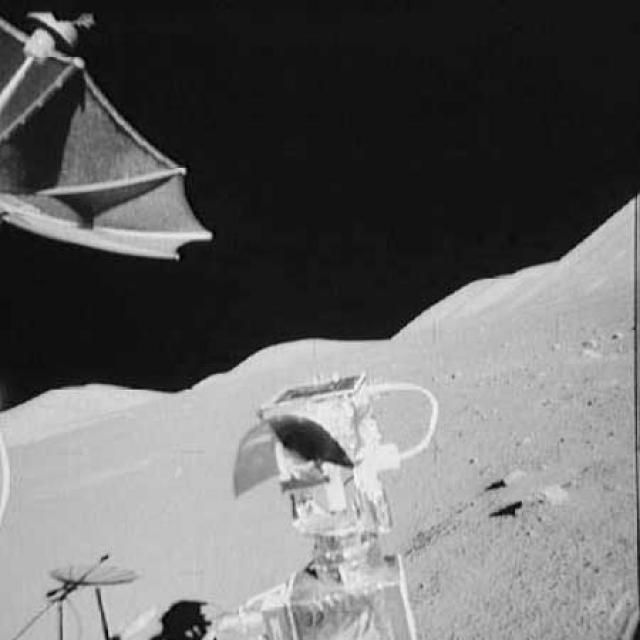artifact: (233, 370, 472, 638), (0, 5, 219, 271)
rock: (504, 483, 569, 521), (496, 462, 528, 490)
